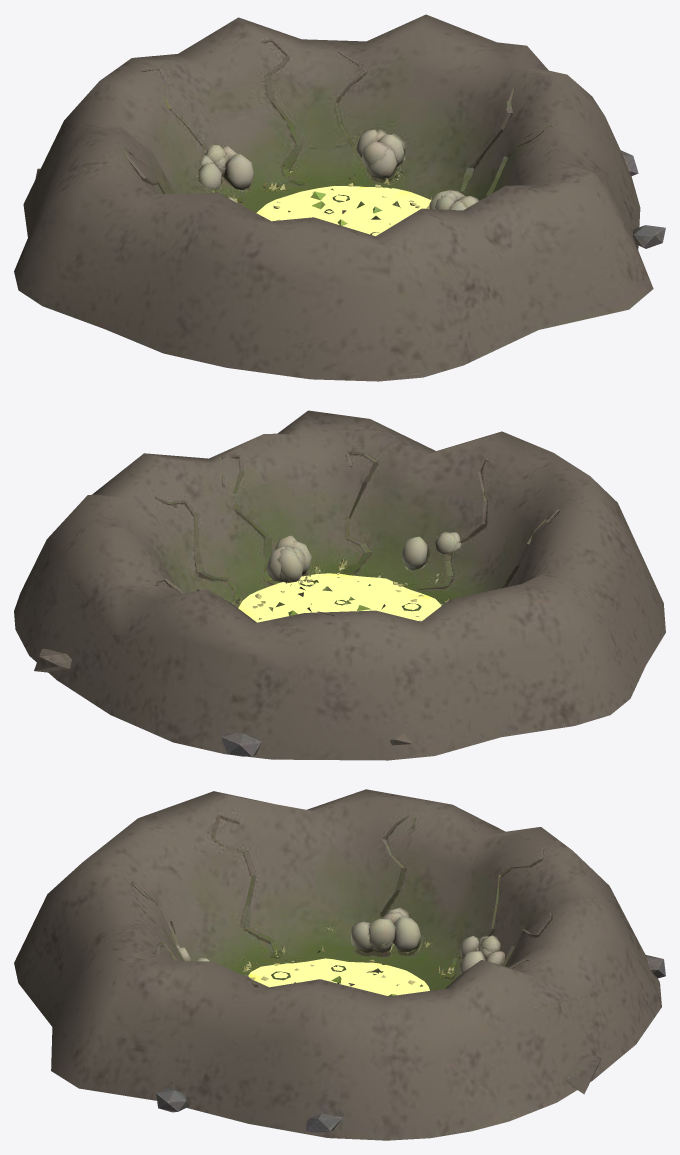
File: cratera_larva.glb
3 views of the same model, one above another, from view 1: azimuth 30°, elevation 25°; view 2: azimuth 150°, elevation 25°; view 3: azimuth 270°, elevation 25° (orthographic). The views are drawn at different scales.
Visible parts, largest first — view 1: cratera_larva_corpo, cratera_poca; view 2: cratera_larva_corpo, cratera_poca; view 3: cratera_larva_corpo, cratera_poca.
Part boxes in pixels (<box>): cratera_larva_corpo: <box>14,14,665,381</box>; cratera_poca: <box>256,186,431,236</box>; cratera_larva_corpo: <box>14,410,665,760</box>; cratera_poca: <box>238,573,441,622</box>; cratera_larva_corpo: <box>14,789,665,1140</box>; cratera_poca: <box>248,958,429,995</box>.
Size of the model in its own units: 2.95 by 0.6331 by 2.9.
Materials: 2 (1 with a texture image).
